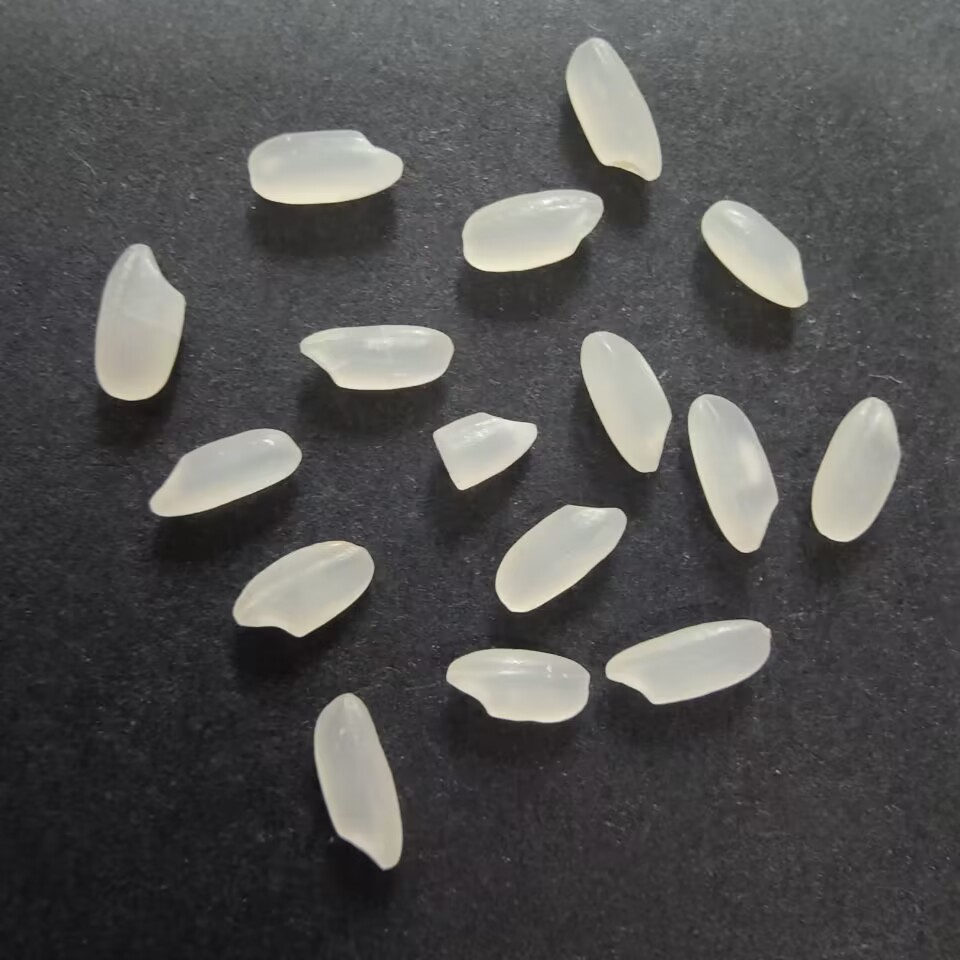broken: (425, 408, 541, 494)
rice: (308, 689, 410, 872), (684, 390, 785, 560), (227, 534, 377, 648), (490, 498, 633, 615), (91, 238, 190, 407), (600, 615, 778, 708), (145, 425, 303, 525), (560, 35, 663, 185), (806, 386, 903, 544), (577, 327, 676, 481), (240, 125, 411, 208), (697, 196, 814, 312), (456, 186, 610, 274), (437, 643, 594, 726), (291, 319, 459, 395)
